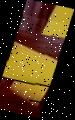scratch: (0, 13, 71, 106)
